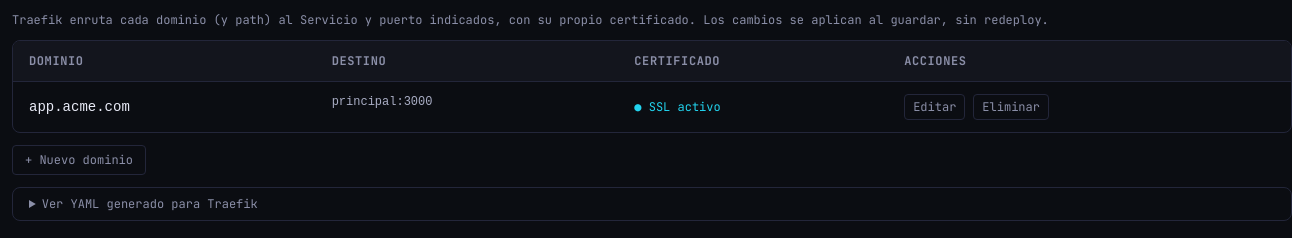
Test: DominiosPanel — eliminar › cancelar la confirmación no elimina
Click the button with aria-label "Eliminar app.acme.com": (1011, 107) [973,94,1049,120]
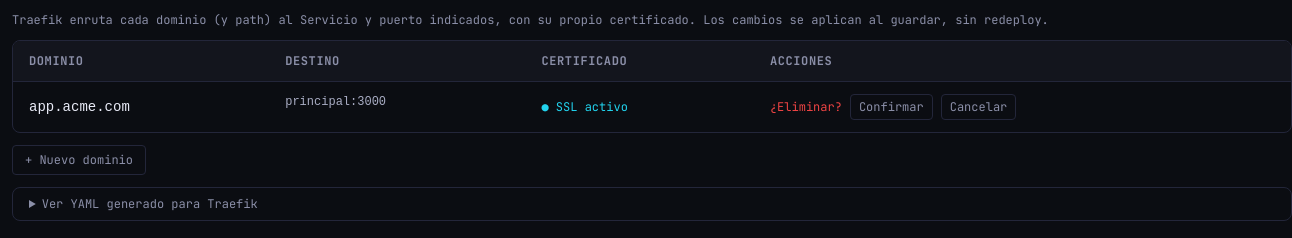
Click the button "Cancelar": (978, 107) [941,94,1016,120]
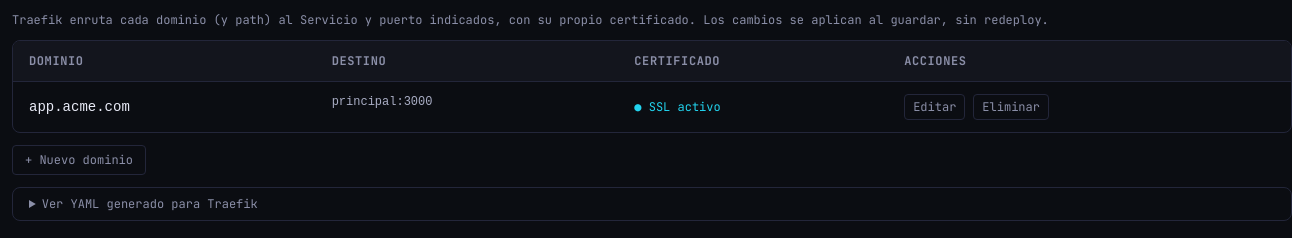
Now the button with aria-label "Eliminar app.acme.com" is shown, box [973,94,1049,120]
